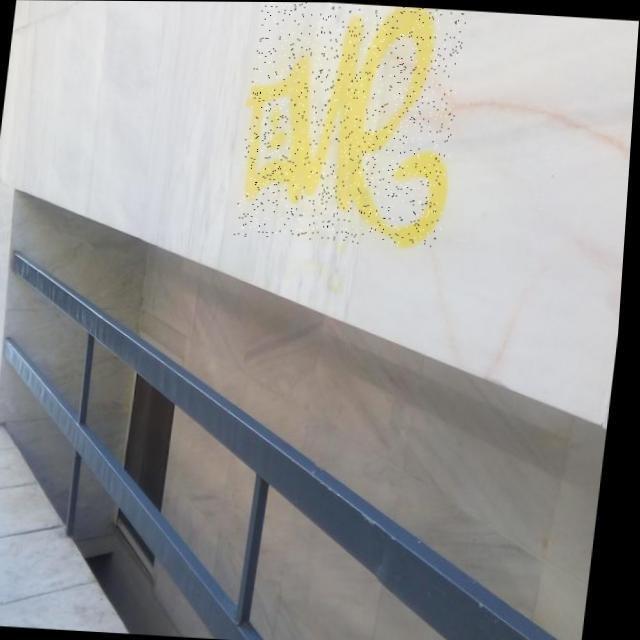-: (236, 2, 467, 246)
